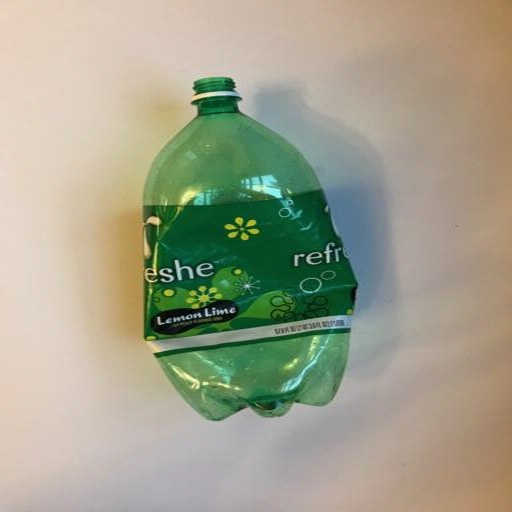Plastic_0: (139, 75, 358, 419)
